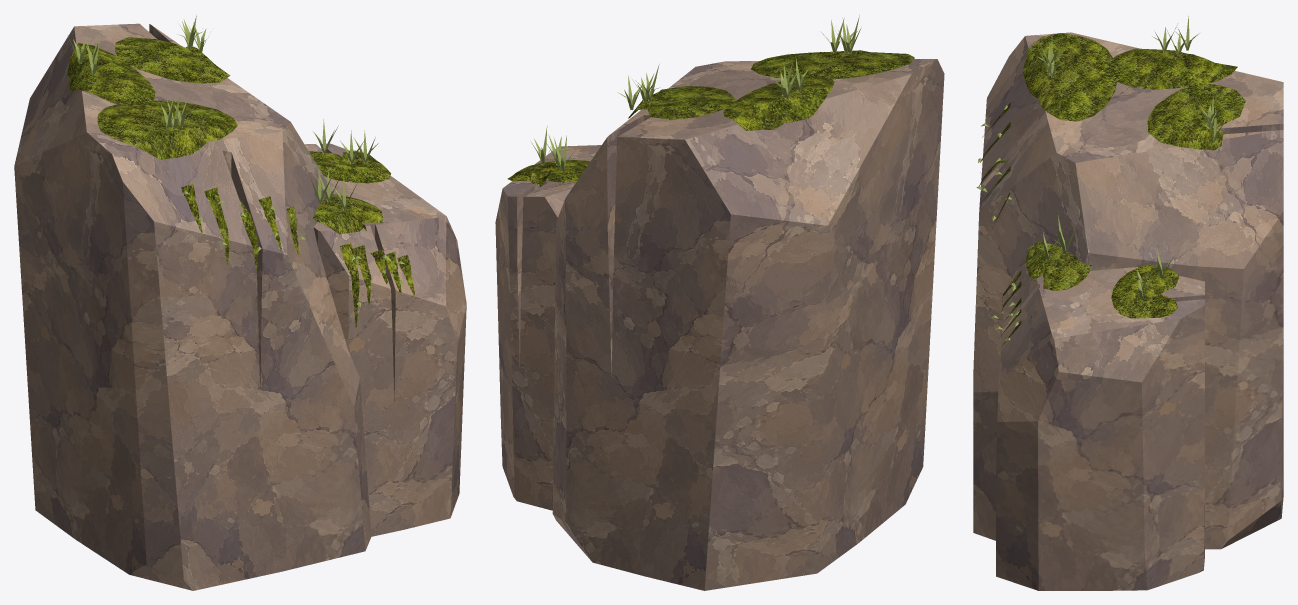
Rendered from cliff-corner.glb.
The picture shows the model from 3 angles, left to right: view 1: azimuth 30°, elevation 25°; view 2: azimuth 150°, elevation 25°; view 3: azimuth 270°, elevation 25°; orthographic projection. The views are drawn at different scales.
Visible parts, largest first — view 1: cliff-corner__stone, cliff-corner__moss, cliff-corner__plants; view 2: cliff-corner__stone, cliff-corner__moss, cliff-corner__plants; view 3: cliff-corner__stone, cliff-corner__moss, cliff-corner__plants.
Part boxes in pixels (x1,y1,x2,y2): cliff-corner__stone: (14, 23, 466, 590); cliff-corner__moss: (67, 37, 414, 327); cliff-corner__plants: (68, 15, 411, 307); cliff-corner__stone: (495, 59, 944, 590); cliff-corner__moss: (507, 50, 914, 186); cliff-corner__plants: (531, 15, 860, 172); cliff-corner__stone: (973, 32, 1283, 590); cliff-corner__moss: (979, 33, 1245, 349); cliff-corner__plants: (976, 16, 1226, 340).
Bounding box in the file's own units: 3.05 × 3.81 × 2.45.
3 materials, 2 textured.
